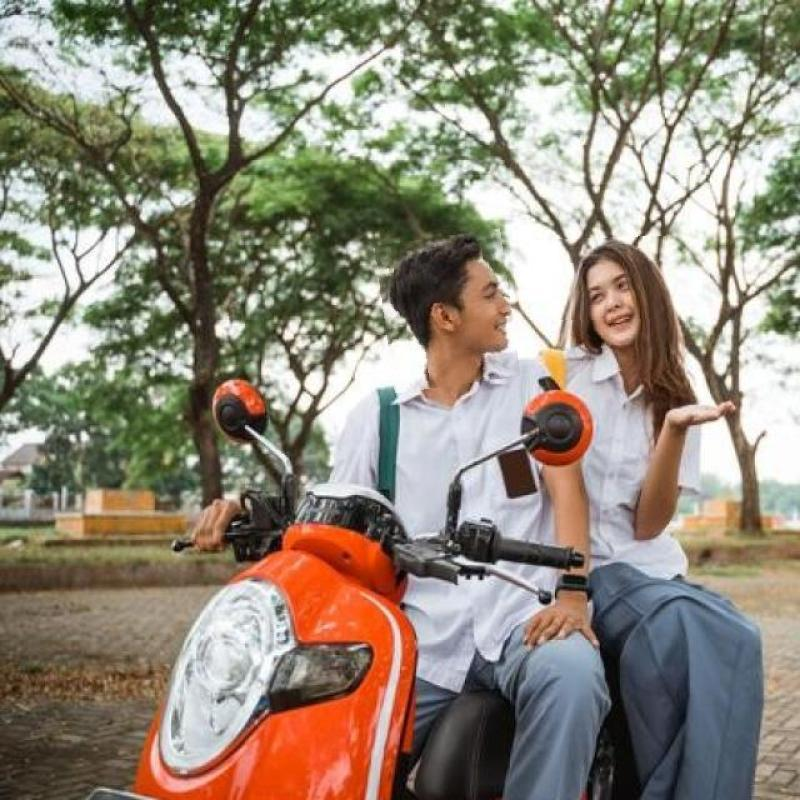nohelmet: (379, 232, 516, 389), (552, 237, 670, 373)
